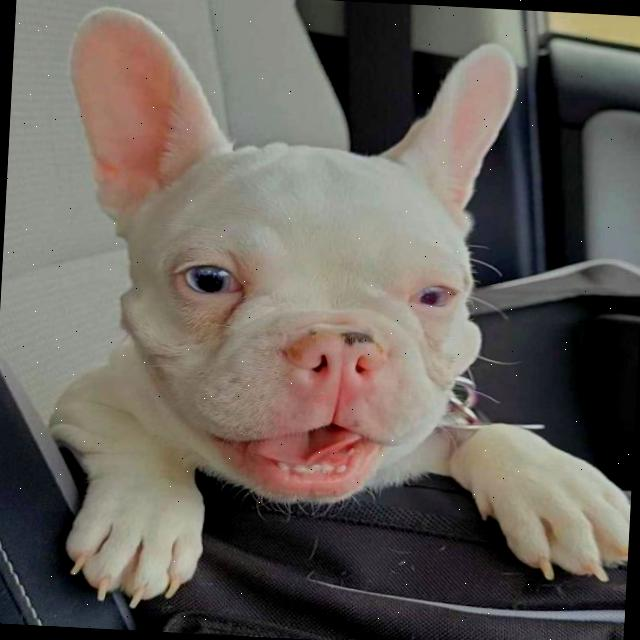french_bulldog_dog: (28, 0, 548, 528)
